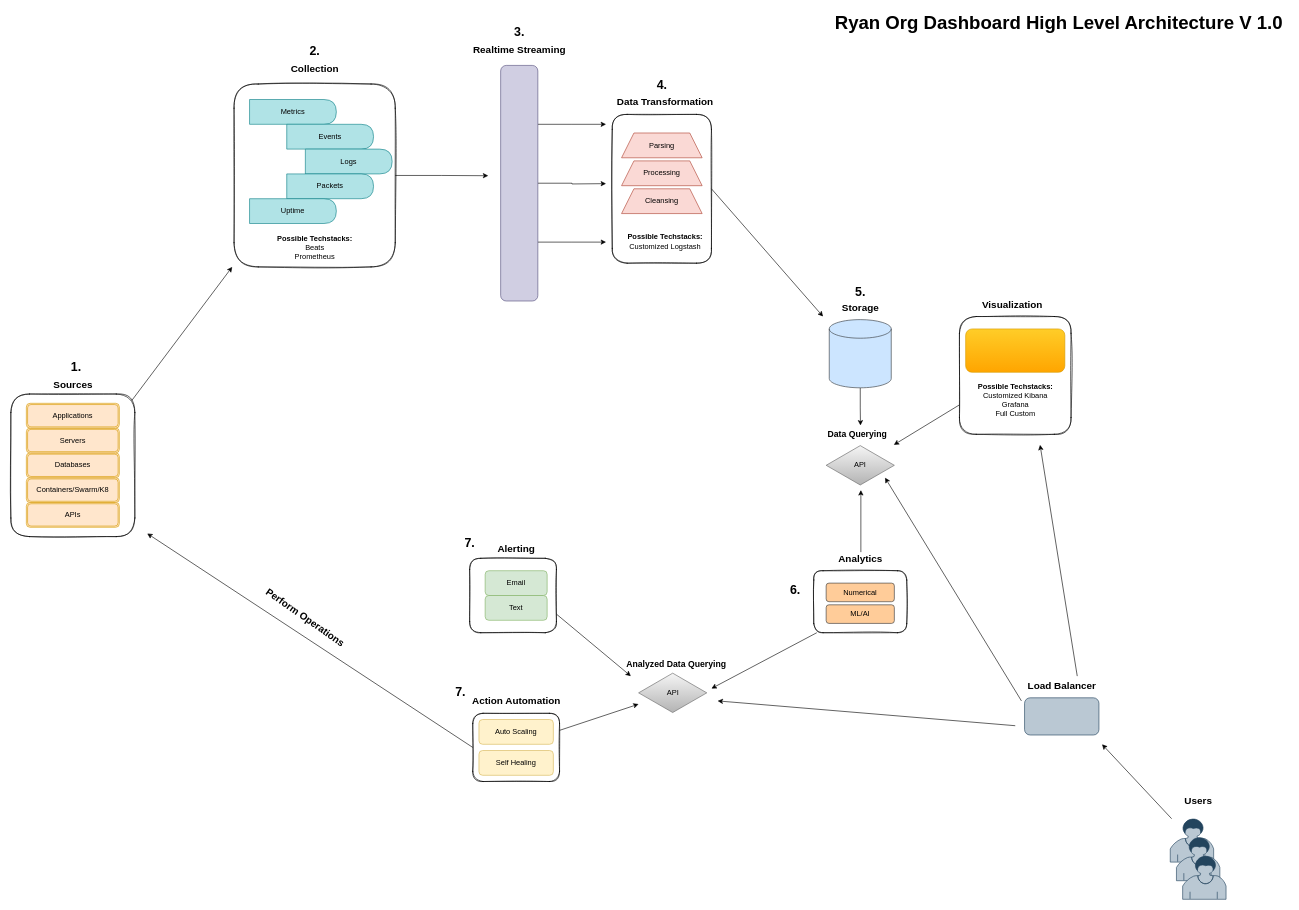
Image size: 1299x910. Some labels were removed from this diagram. Here are the shapes that lost their labels. From the top down, the centre of each, then its label:
At point 519,183: "Kafka".
At point 860,353: "ElasticSearch".
At point 1015,350: "Dashboard".
At point 1061,716: "Nginx".
